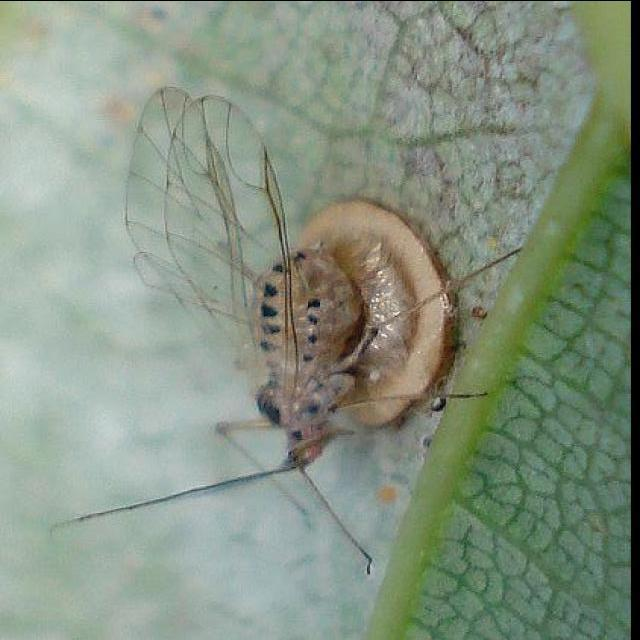aphid: (121, 100, 381, 530)
